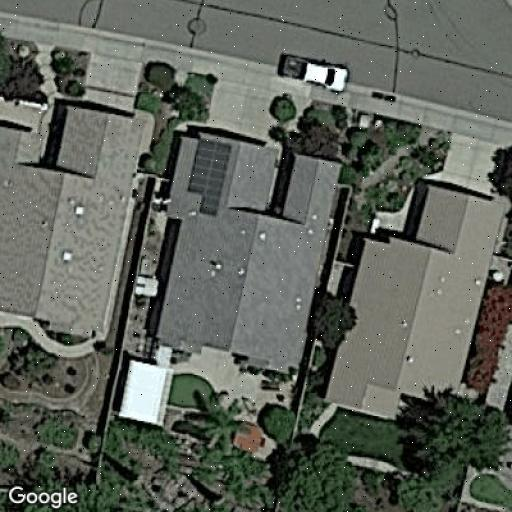solar-panel: (184, 136, 238, 218)
